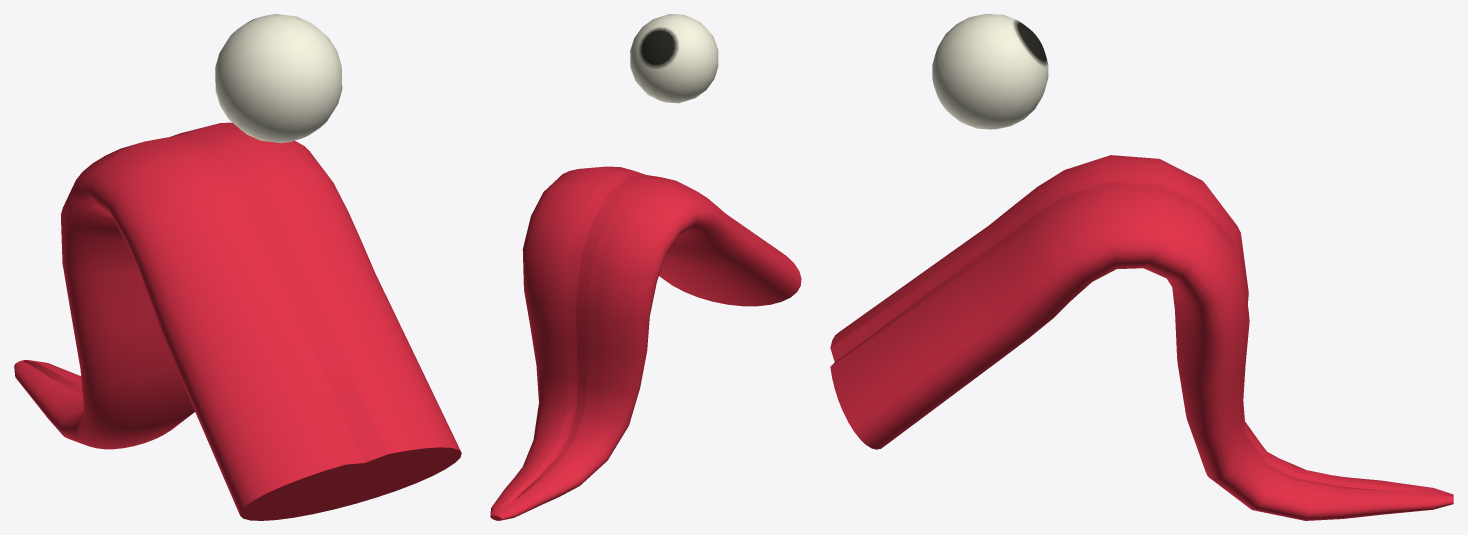
Rendered from enemyEye.obj.
3 views of the same model, side by side, from view 1: azimuth 30°, elevation 25°; view 2: azimuth 150°, elevation 25°; view 3: azimuth 270°, elevation 25° (orthographic). The views are drawn at different scales.
Visible parts, largest first — view 1: 円錐, 球; view 2: 円錐, 球; view 3: 円錐, 球.
Boxes of the visible parts, x1,y1,x2,y2 form: 円錐: [14, 122, 461, 520]; 球: [215, 14, 342, 142]; 円錐: [490, 166, 801, 520]; 球: [630, 14, 718, 103]; 円錐: [830, 155, 1453, 520]; 球: [932, 14, 1048, 129].
Bounding box in the file's own units: 1.18 × 2.79 × 3.2.
